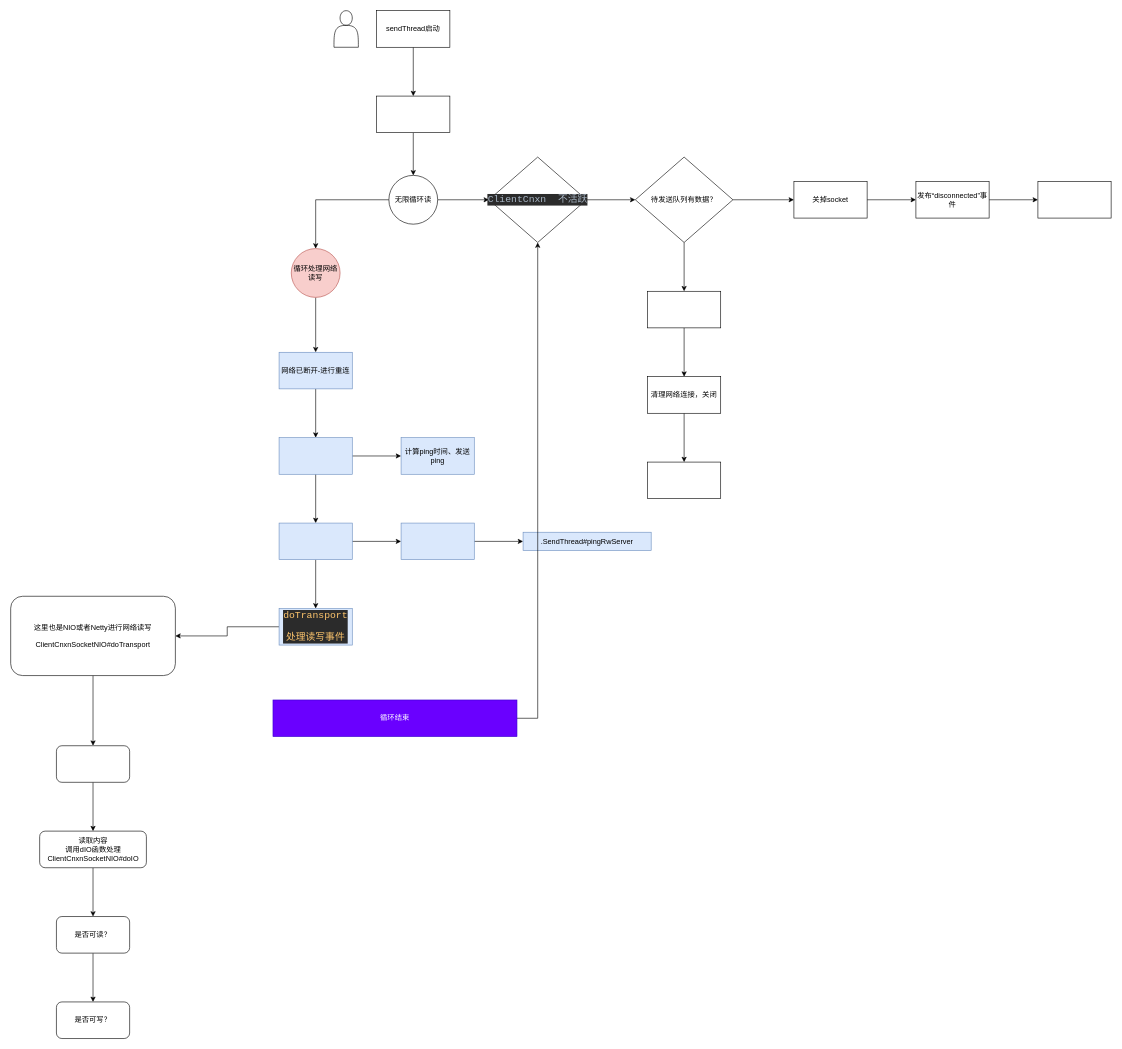
The diagram is 1122 pixels wide and 1049 high, and some of its shapes have lost their labels. Here are the shapes that lost their labels. From the top down, the centre of each, then its label:
At pixel 413 114: "将发送线程、 会话id、 待发送队列 交给 clientCNXN持有".
At pixel 1074 199: "发布 close 事件".
At pixel 684 309: "清理数据 SendThread#cleanup".
At pixel 315 455: "网络已连接".
At pixel 684 480: "处理未发送的包".
At pixel 315 541: "只能读取 RW server ？".
At pixel 437 541: "pingRwServer".
At pixel 93 763: "NIO".
